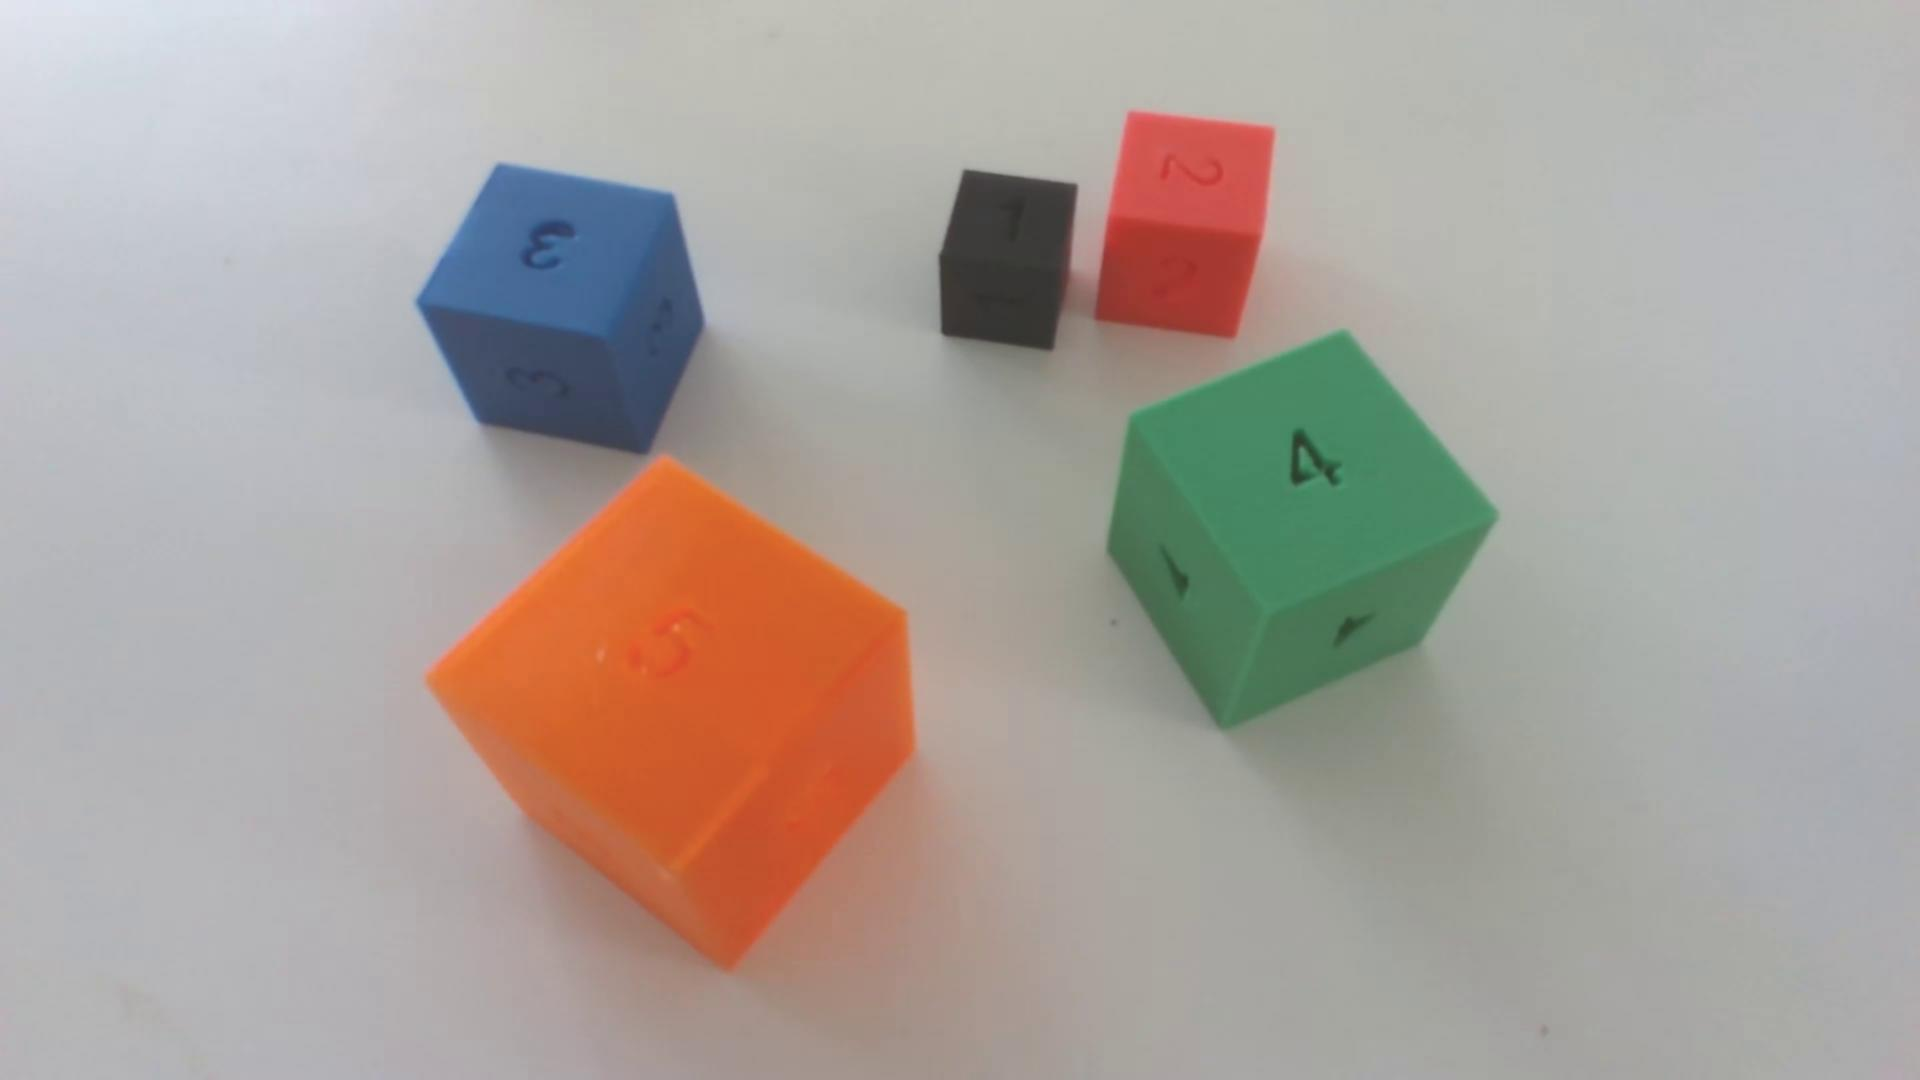black: (938, 171, 1077, 352)
blue: (415, 164, 704, 455)
green: (1106, 334, 1495, 729)
orange: (427, 458, 914, 967)
red: (1095, 112, 1275, 339)
